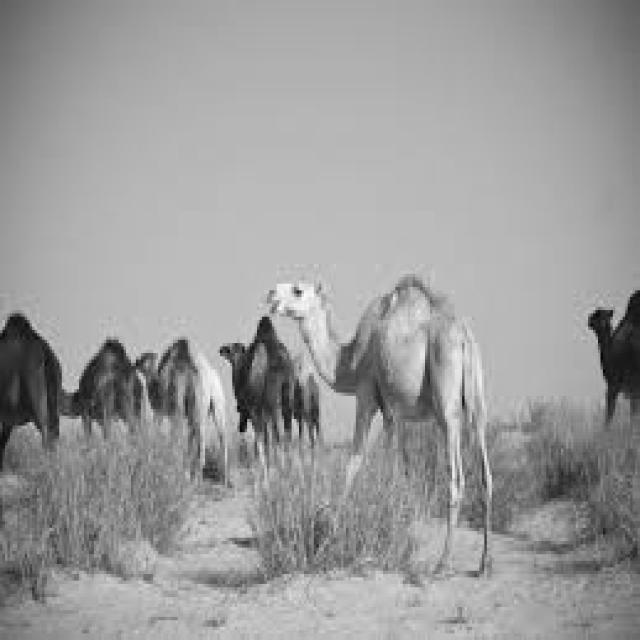Camel: (264, 268, 492, 578), (217, 314, 319, 478), (0, 310, 62, 472), (62, 336, 153, 439), (586, 287, 638, 426)
